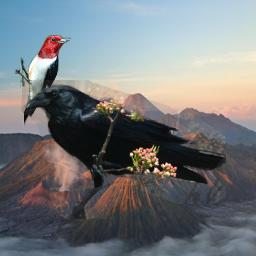Crow: (18, 80, 226, 219)
Woodpecker: (14, 35, 72, 127)
